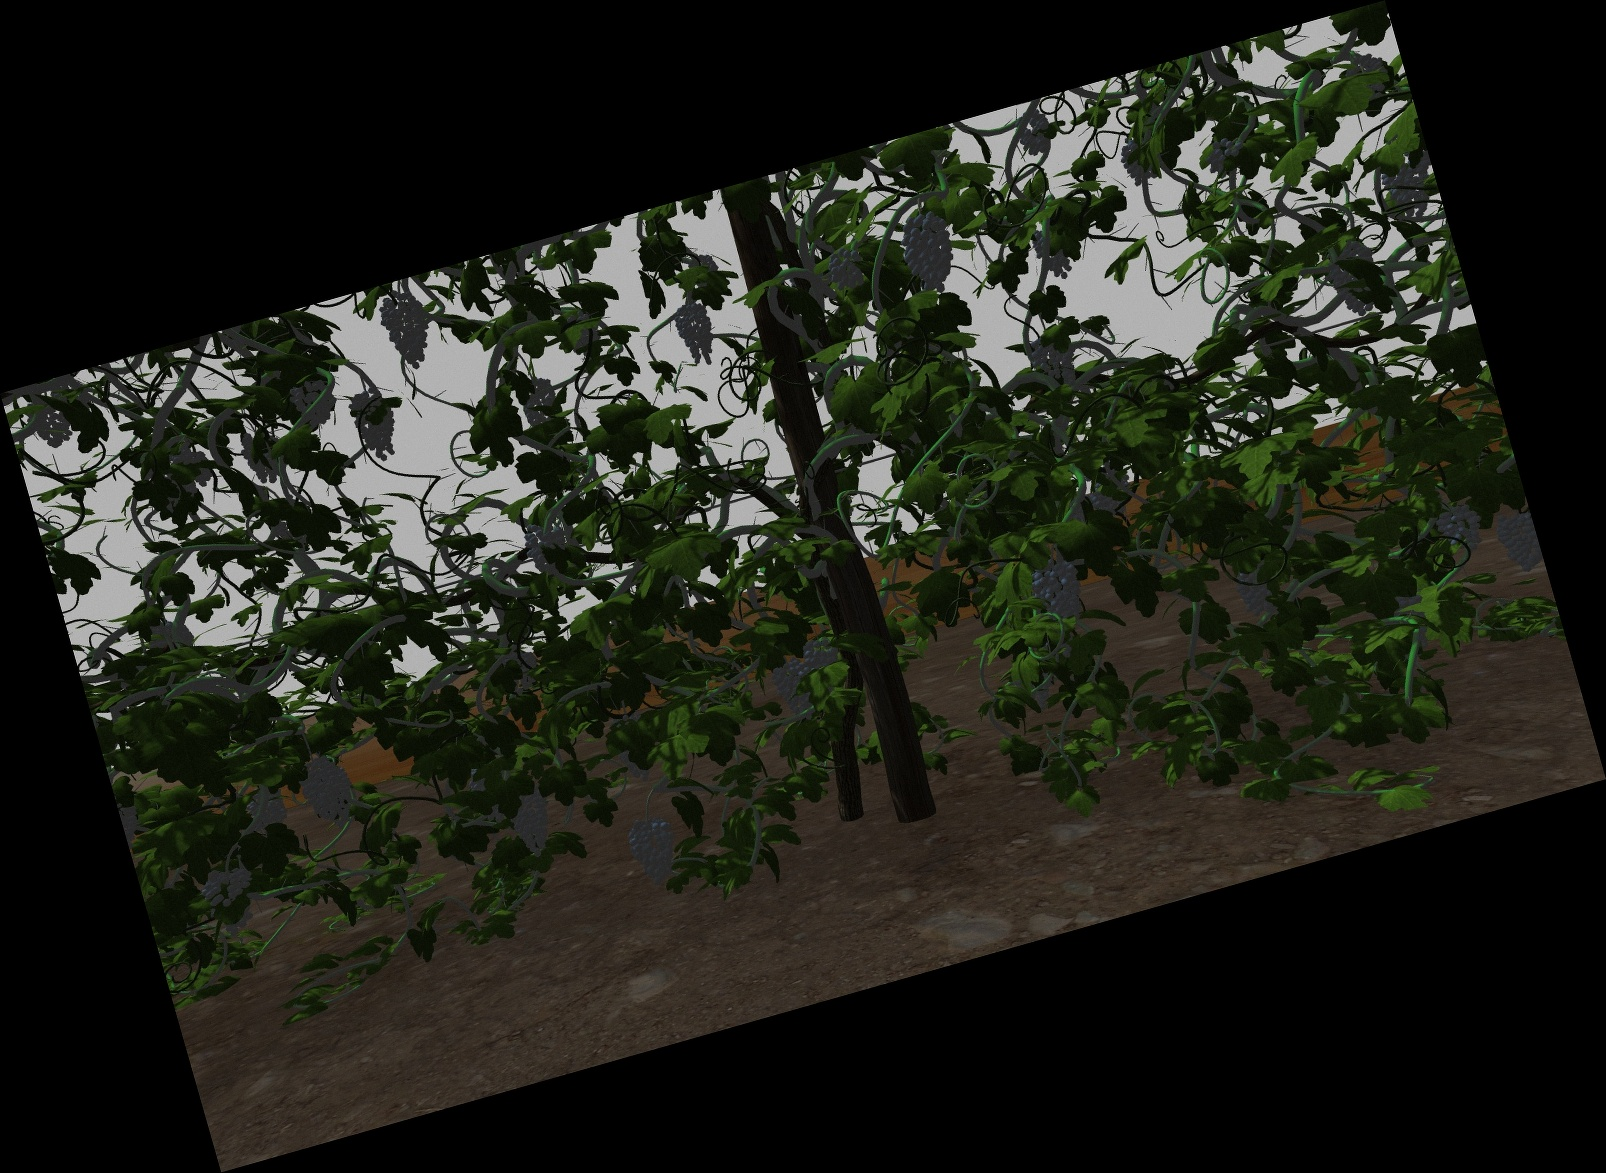grape: (904, 206, 953, 293), (303, 754, 354, 825), (385, 295, 431, 371), (353, 390, 398, 462), (207, 869, 256, 932), (632, 816, 677, 883), (512, 787, 552, 859), (1036, 557, 1082, 620), (1380, 163, 1430, 219), (1498, 505, 1532, 578), (1234, 566, 1281, 620), (1440, 501, 1483, 557), (524, 519, 569, 571), (678, 302, 714, 366), (1032, 337, 1077, 386), (30, 403, 74, 449), (774, 659, 813, 711), (294, 379, 335, 425), (520, 376, 560, 423), (1019, 110, 1052, 157), (249, 788, 287, 830), (829, 246, 865, 287), (1204, 138, 1244, 171), (803, 637, 838, 671)
